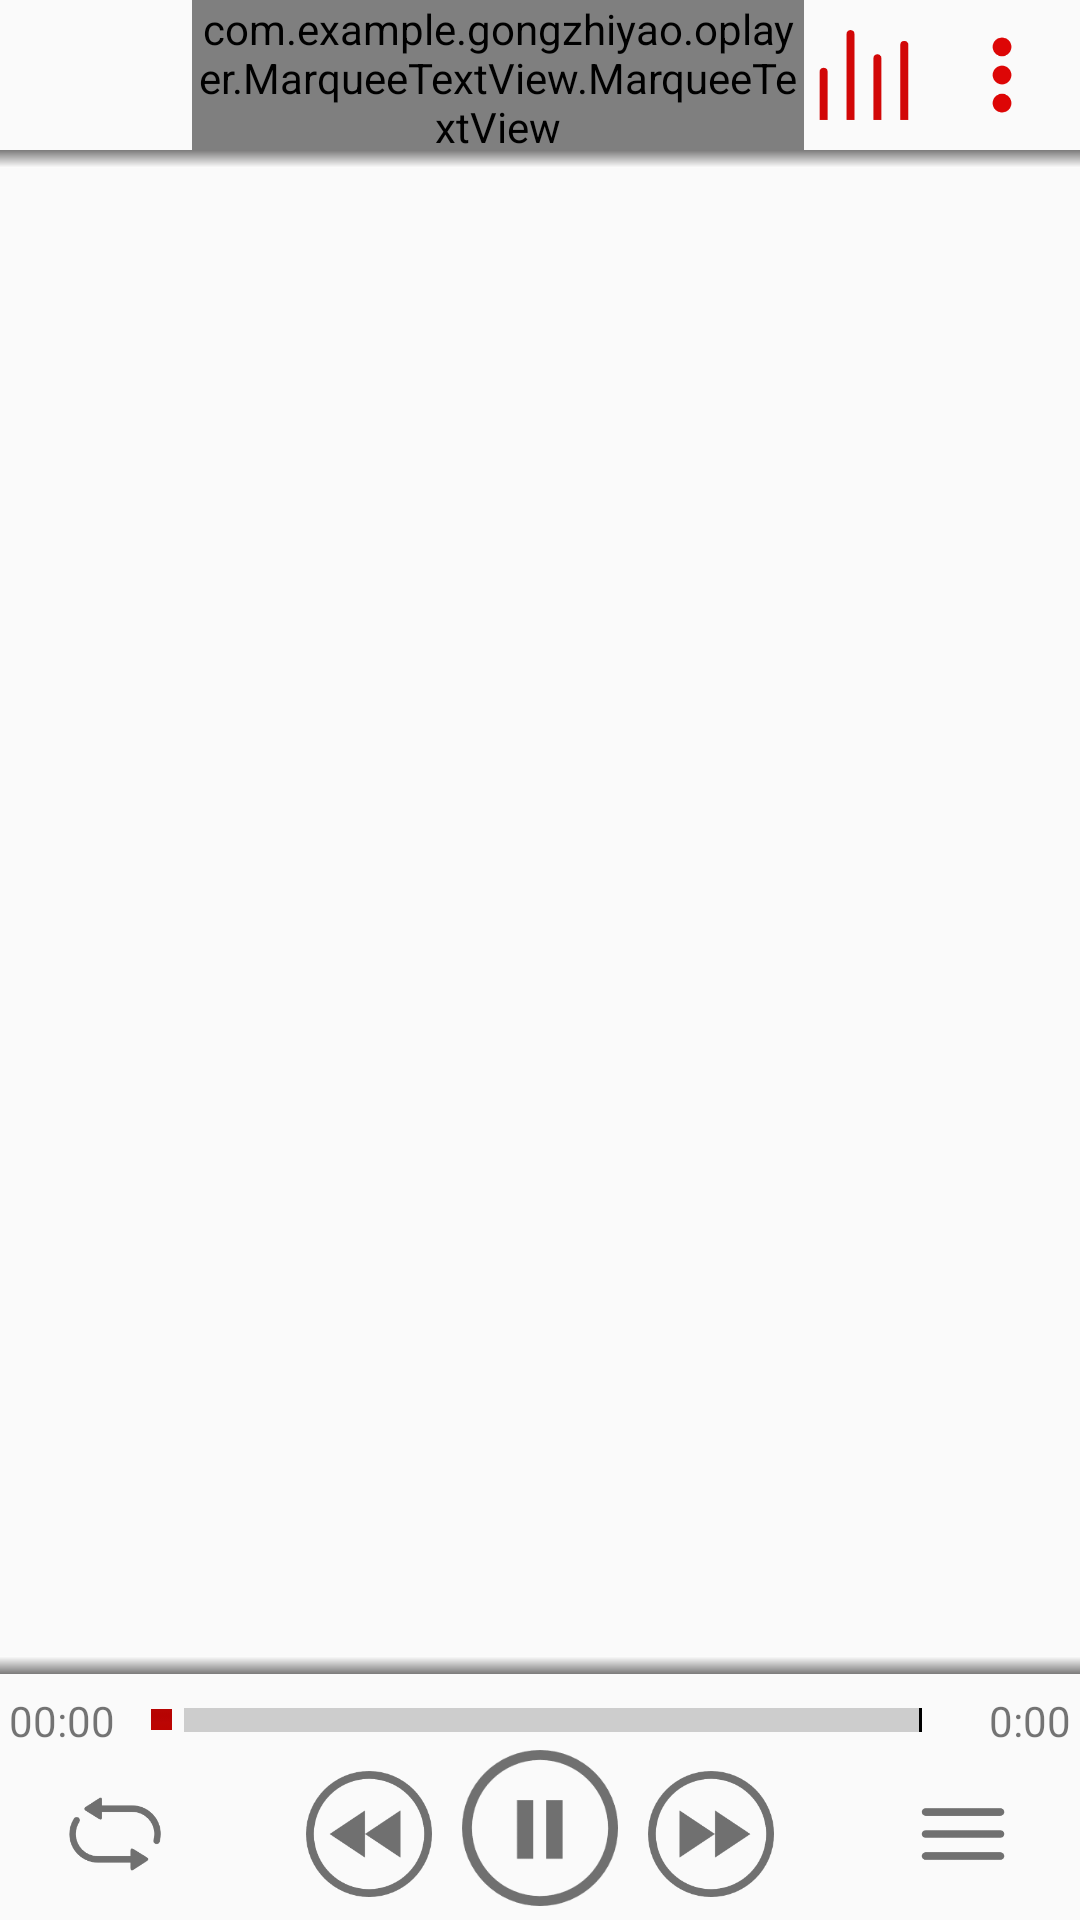

Point at icon controls on the screen. Image size 1080 x 1920, points as [x,y].
music list: [963,1834]
music loop: [115,1834]
music more: [1002,75]
music play last: [369,1834]
music play next: [711,1834]
music stop: [540,1828]
